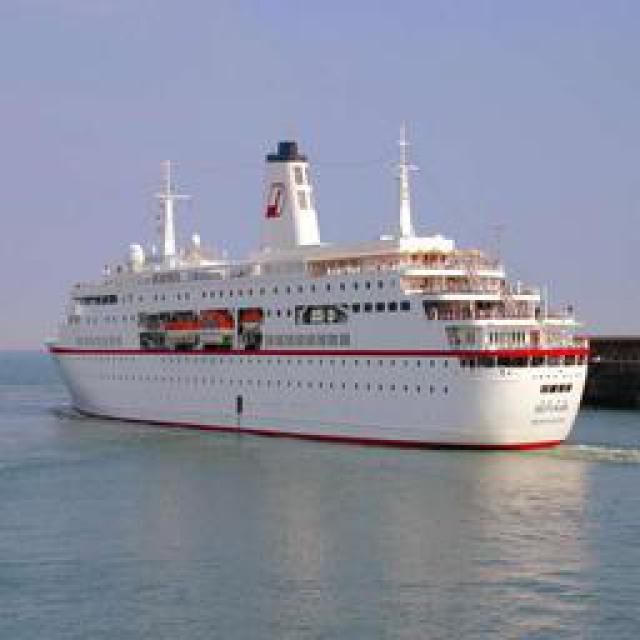Ship: (44, 111, 594, 449)
